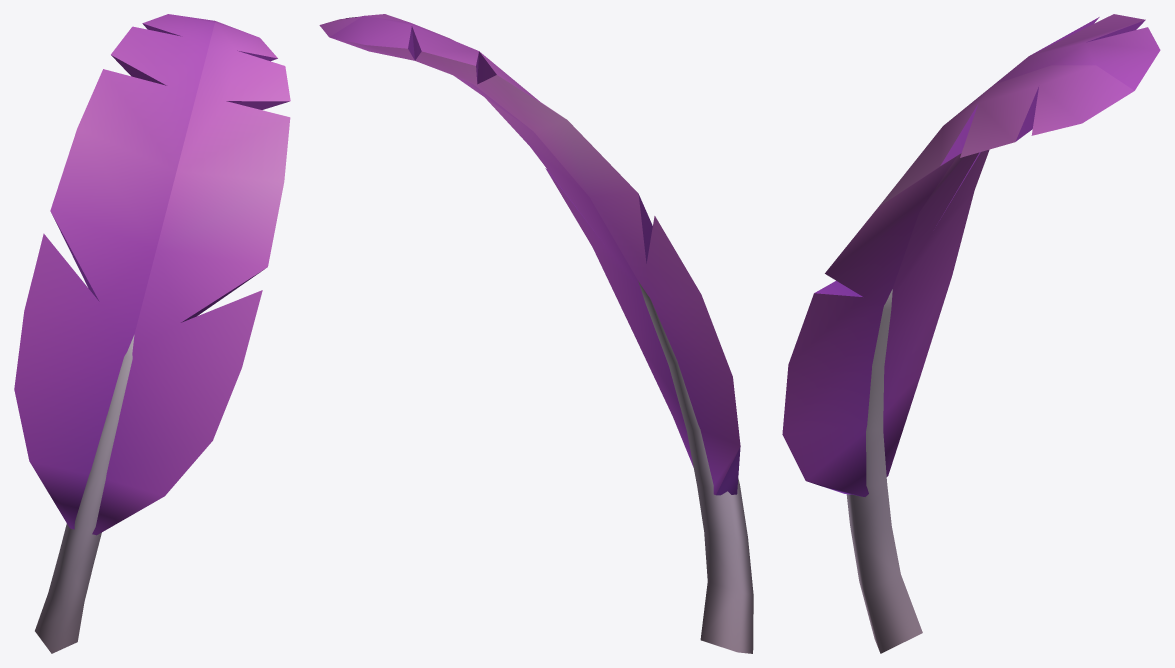
The model's file is Feather.fbx.
The picture shows the model from 3 angles, left to right: view 1: azimuth 30°, elevation 25°; view 2: azimuth 150°, elevation 25°; view 3: azimuth 270°, elevation 25°; orthographic projection. The views are drawn at different scales.
Parts seen in each view (by area): view 1: Feather; view 2: Feather; view 3: Feather.
Boxes of the visible parts, <box> form: Feather: <box>14,14,290,653</box>; Feather: <box>319,14,753,653</box>; Feather: <box>782,14,1160,653</box>.
Size of the model in its own units: 0.5291 by 0.8905 by 0.4109.
